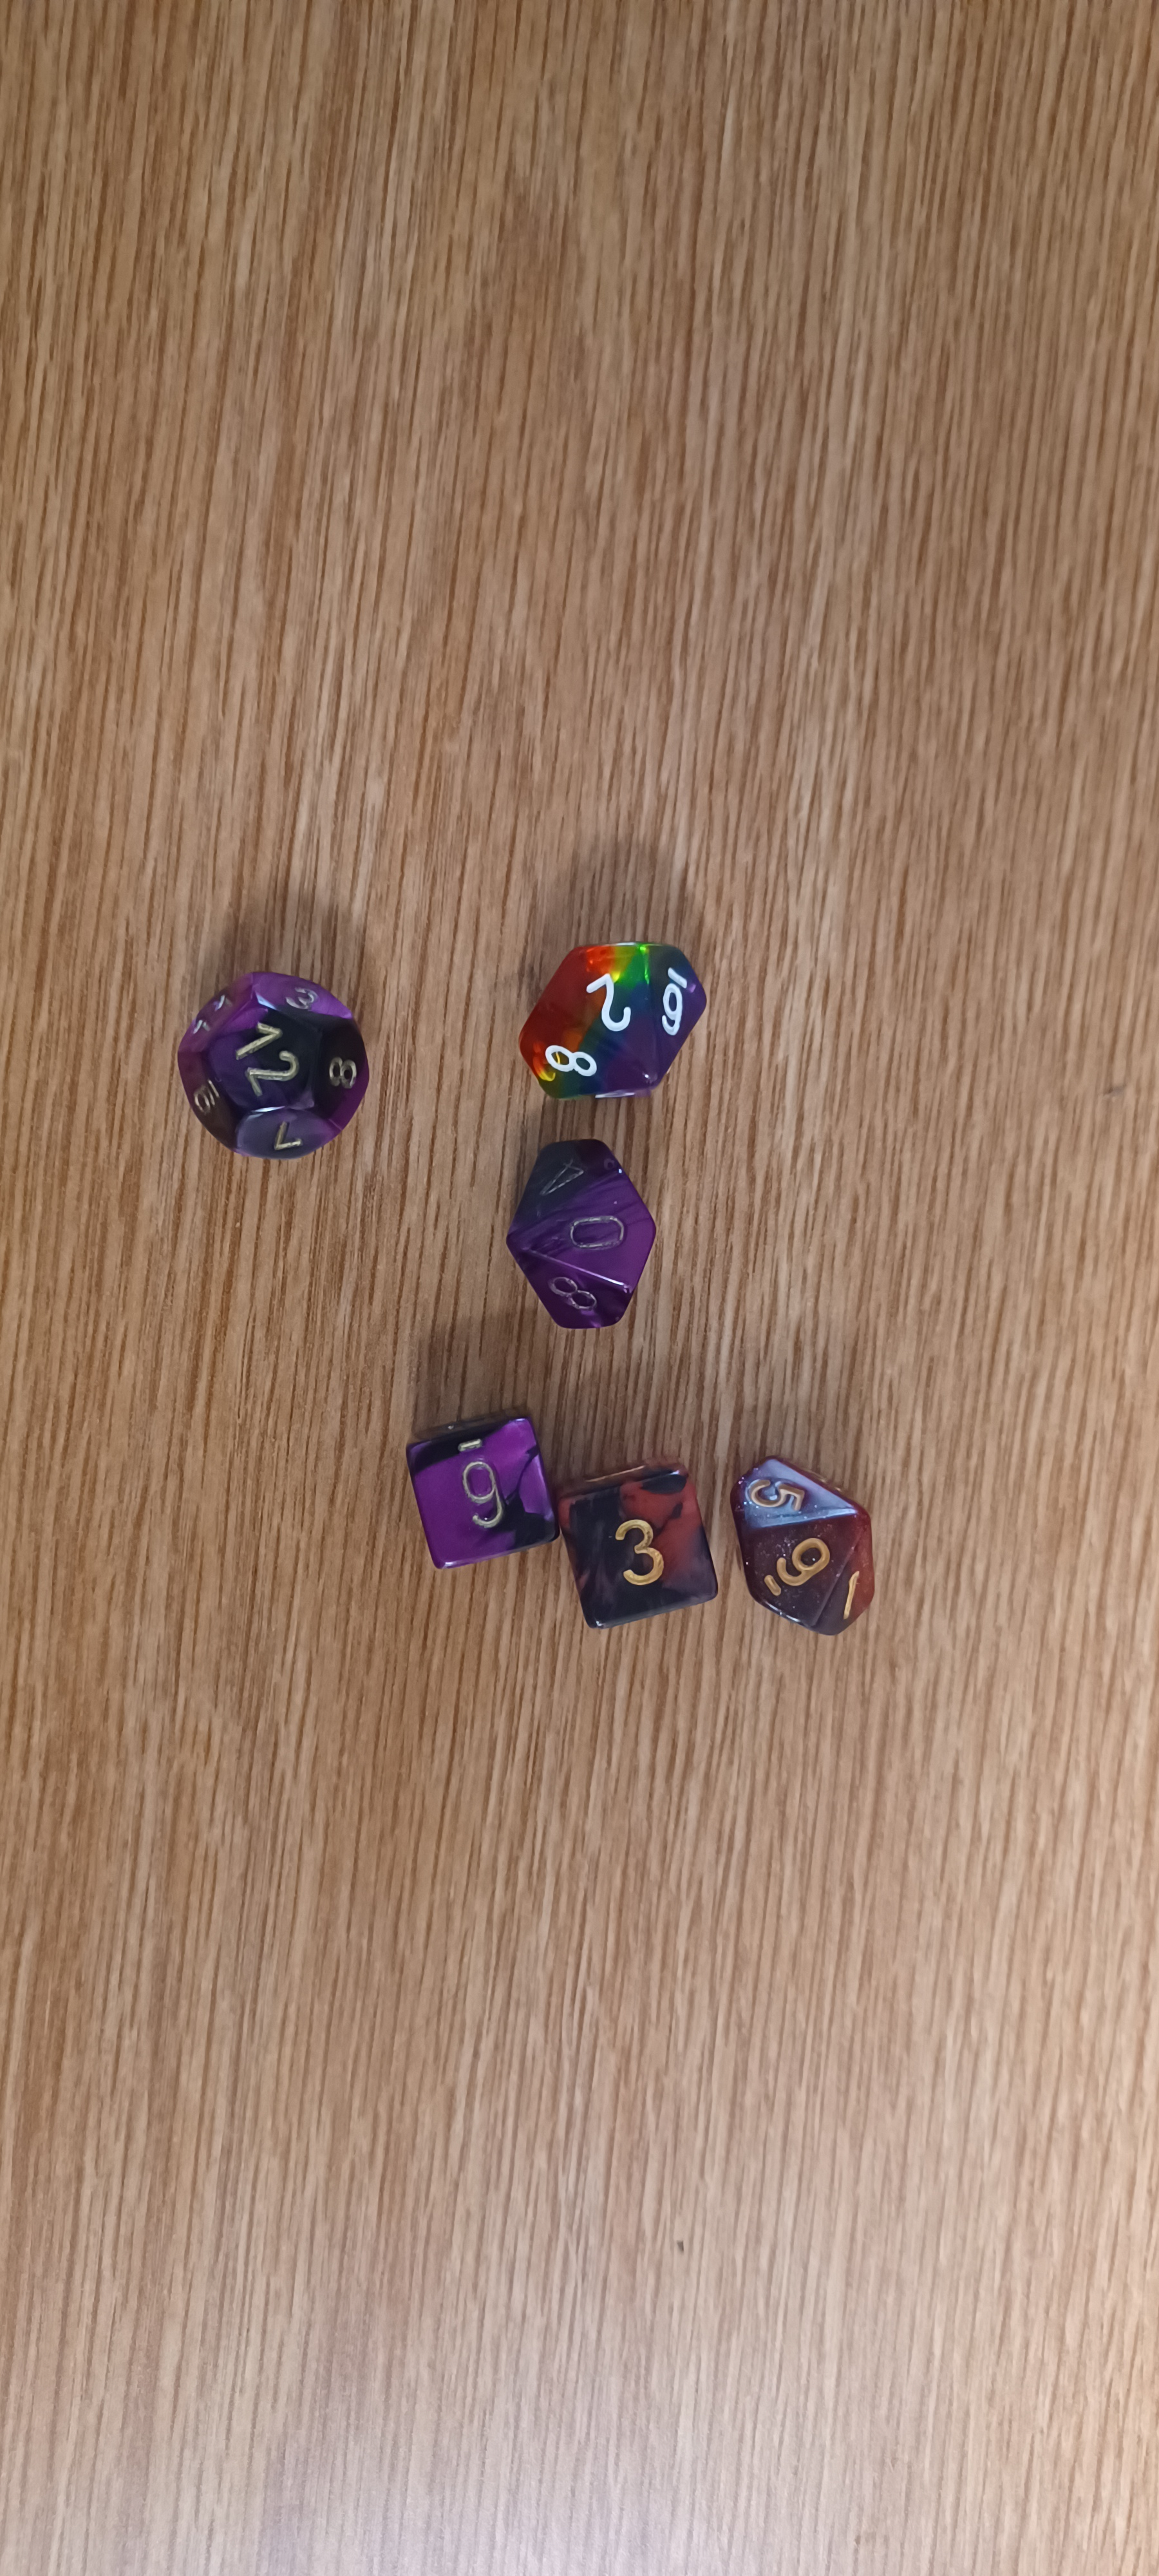nine: (721, 1413, 888, 1651)
six: (364, 1383, 586, 1576)
three: (547, 1431, 744, 1654)
twelve: (153, 959, 409, 1186)
two: (507, 918, 735, 1135)
zero: (478, 1127, 701, 1341)
